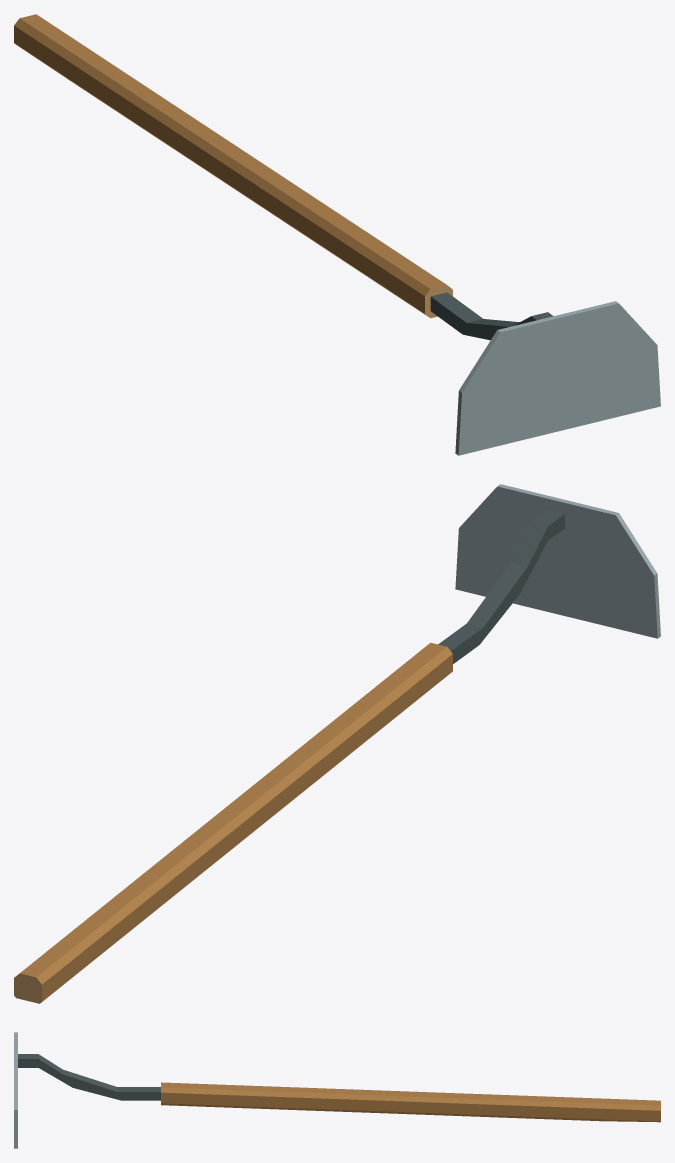
3 views of the same model, one above another, from view 1: azimuth 30°, elevation 25°; view 2: azimuth 150°, elevation 25°; view 3: azimuth 270°, elevation 25° (orthographic). The views are drawn at different scales.
Parts seen in each view (by area): view 1: BroadTransverseBluntHoePlate, LongInclinedOctagonalWoodShaft, ContinuousRaisedBentGooseneck; view 2: LongInclinedOctagonalWoodShaft, BroadTransverseBluntHoePlate, ContinuousRaisedBentGooseneck; view 3: LongInclinedOctagonalWoodShaft, ContinuousRaisedBentGooseneck, BroadTransverseBluntHoePlate.
Part boxes in pixels (<box>): BroadTransverseBluntHoePlate: <box>455,301,660,455</box>; LongInclinedOctagonalWoodShaft: <box>14,14,452,318</box>; ContinuousRaisedBentGooseneck: <box>430,292,553,340</box>; LongInclinedOctagonalWoodShaft: <box>14,642,452,1003</box>; BroadTransverseBluntHoePlate: <box>455,484,660,638</box>; ContinuousRaisedBentGooseneck: <box>438,510,564,663</box>; LongInclinedOctagonalWoodShaft: <box>161,1082,660,1122</box>; ContinuousRaisedBentGooseneck: <box>18,1054,160,1100</box>; BroadTransverseBluntHoePlate: <box>14,1032,17,1148</box>.
Bounding box in the file's own units: 0.29 × 0.155 × 1.32.
